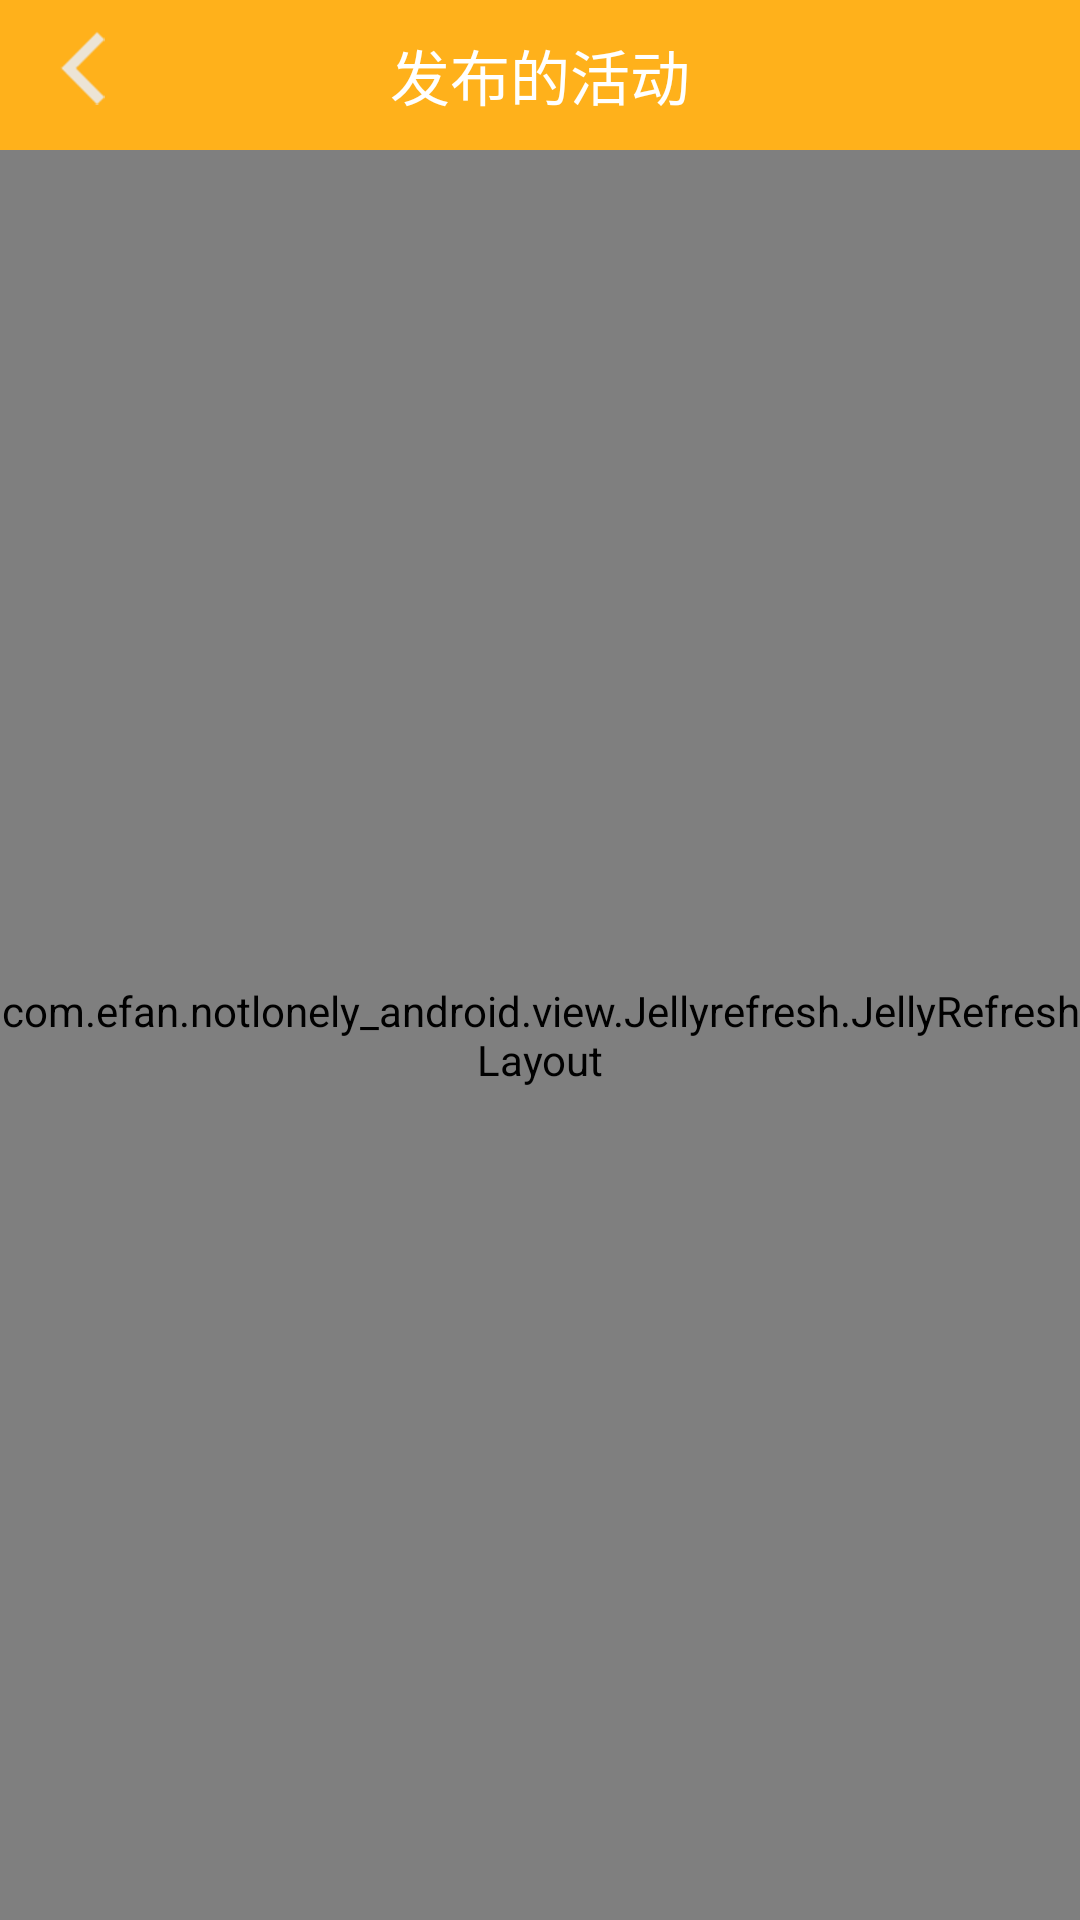

Screen size 1080×1920. Icon name, then its center in pixels as (x,y):
back: (83,68)
